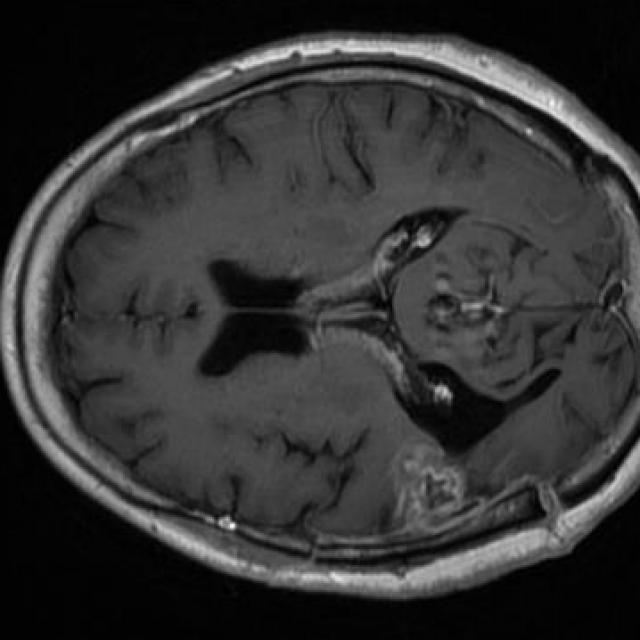glioma: (394, 444, 480, 535)
